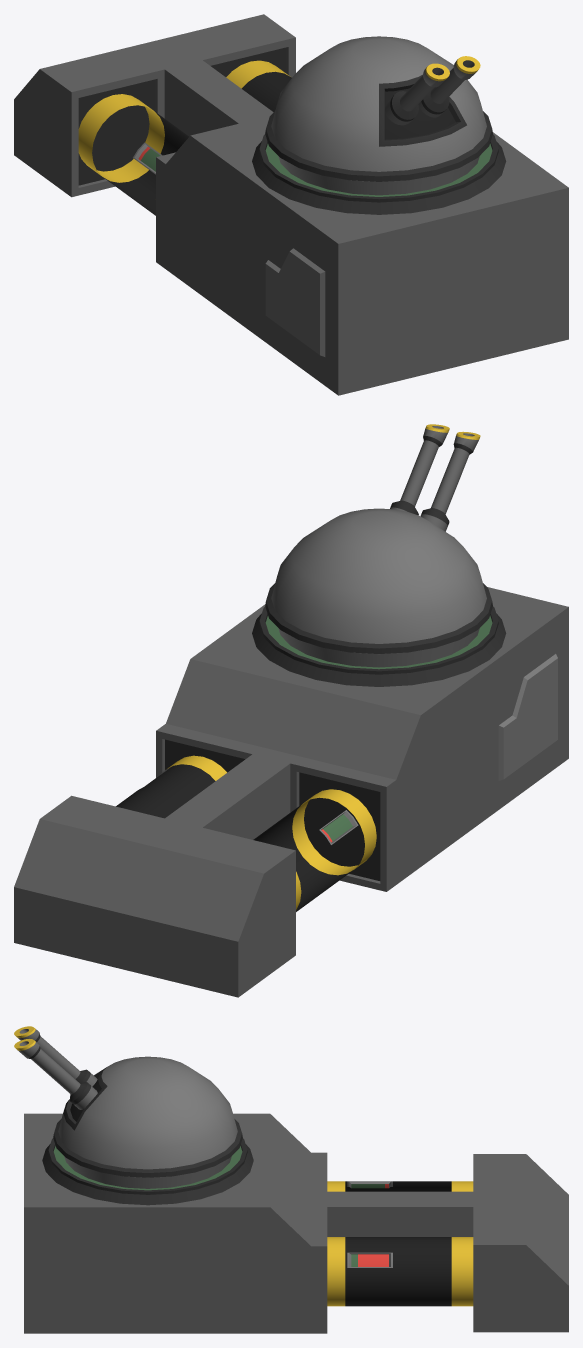
File: size2Guns.glb
3 renders of one model, top to bottom at view 1: azimuth 30°, elevation 25°; view 2: azimuth 150°, elevation 25°; view 3: azimuth 270°, elevation 25°, orthographic. The views are drawn at different scales.
Visible parts, largest first — view 1: Size 2 Guns; view 2: Size 2 Guns; view 3: Size 2 Guns.
Part boxes in pixels (x1,y1,x2,y2): Size 2 Guns: [14, 14, 568, 395]; Size 2 Guns: [14, 424, 568, 997]; Size 2 Guns: [14, 1026, 568, 1333].
Size of the model in its own units: 0.7645 by 0.9443 by 1.88.
